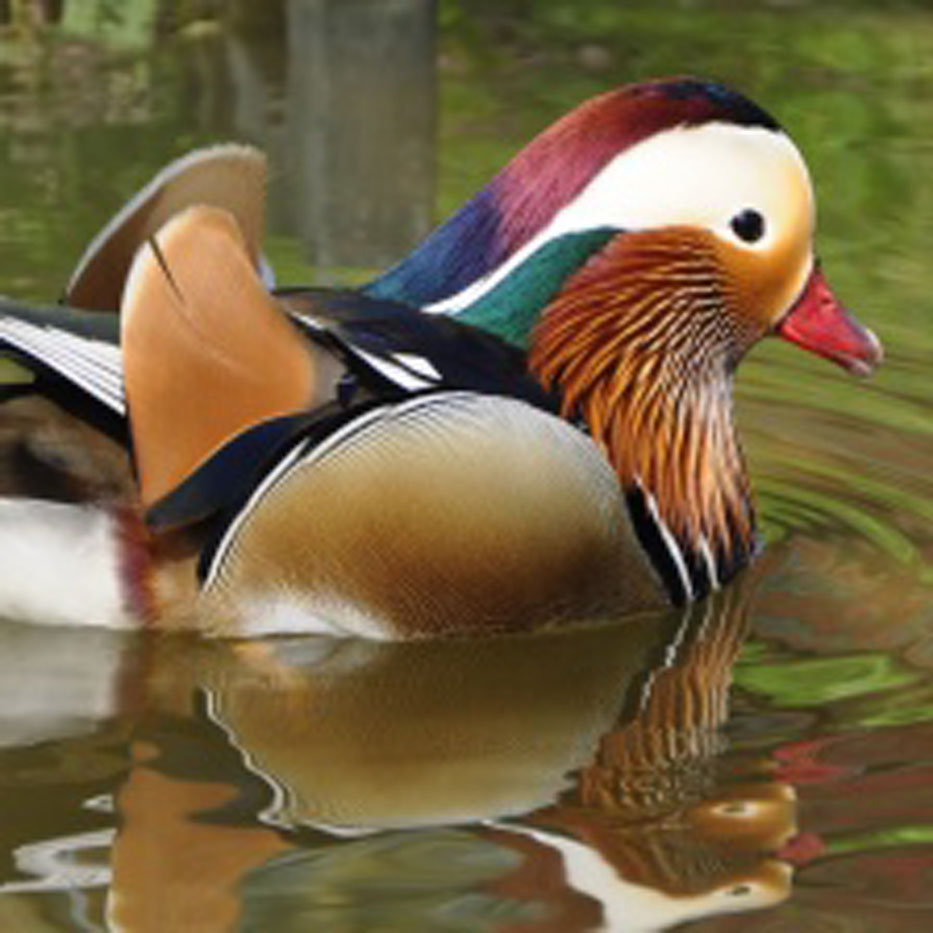Mencari Makan di Lumpur: (770, 269, 894, 388)
